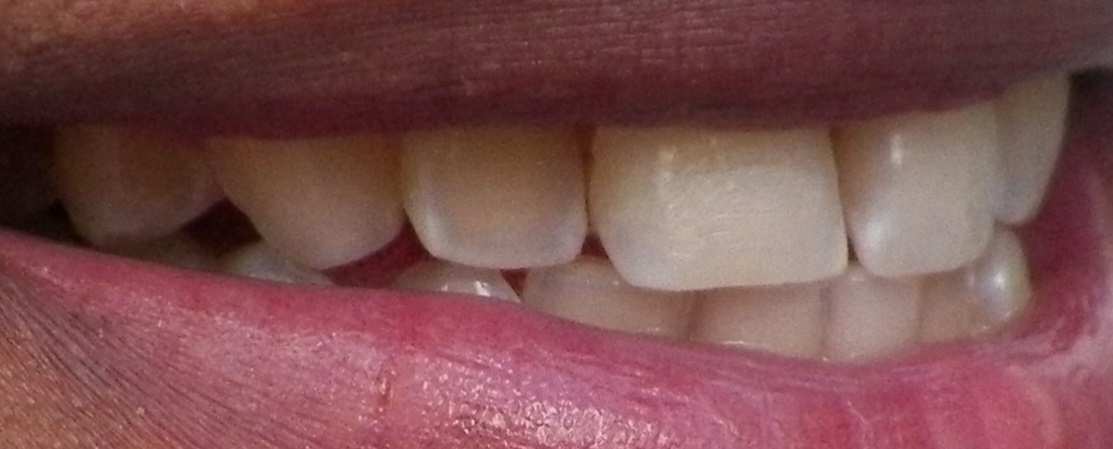boca: (44, 97, 1073, 347)
